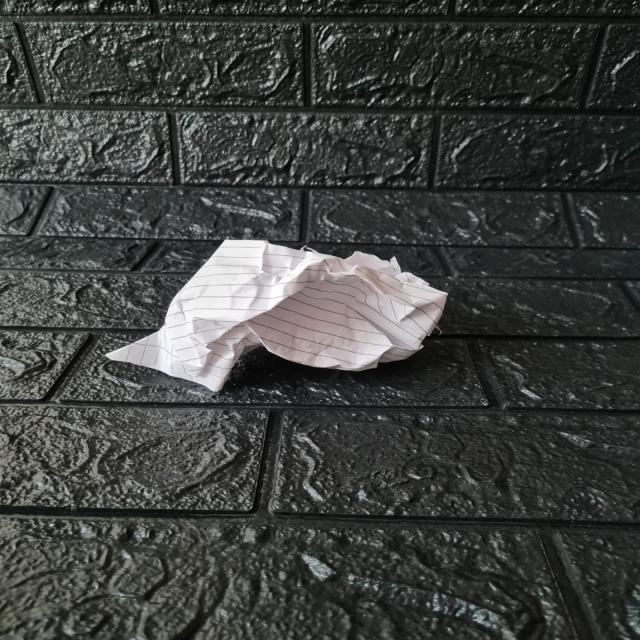Paper: (104, 242, 447, 387)
